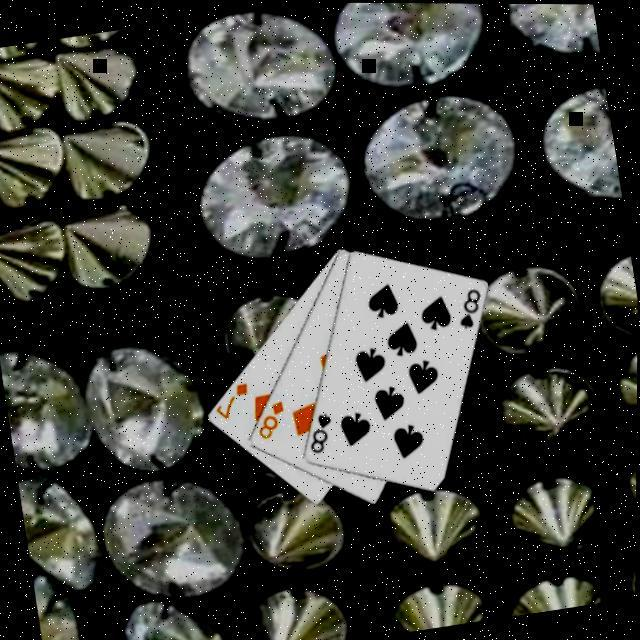7D: (208, 377, 254, 422)
8D: (249, 394, 291, 441)
8S: (449, 282, 487, 331), (300, 408, 338, 456)
